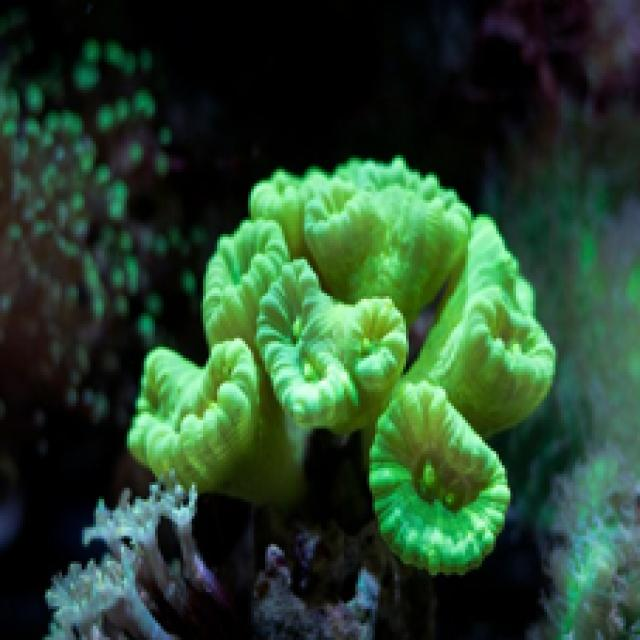Bleached: (46, 486, 224, 638)
Healthy: (128, 162, 554, 573)
